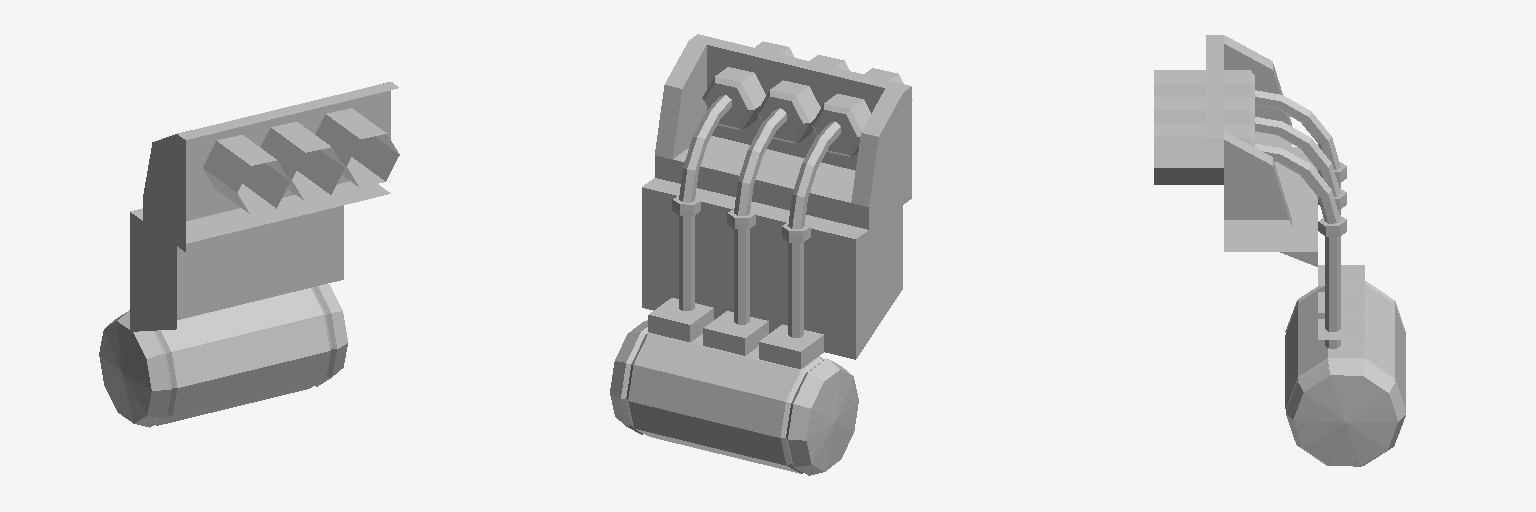
Rendered from JC_ModPanels_EdgeTile_III_B.obj.
The picture shows the model from 3 angles: view 1: azimuth 30°, elevation 25°; view 2: azimuth 150°, elevation 25°; view 3: azimuth 270°, elevation 25°; orthographic projection.
Visible parts, largest first — view 1: JC_ModPanels_EdgeTile_III2; view 2: JC_ModPanels_EdgeTile_III2; view 3: JC_ModPanels_EdgeTile_III2.
Part boxes in pixels (x1,y1,x2,y2): JC_ModPanels_EdgeTile_III2: (99, 82, 399, 427); JC_ModPanels_EdgeTile_III2: (610, 34, 912, 475); JC_ModPanels_EdgeTile_III2: (1154, 35, 1405, 466).
Size of the model in its own units: 200 by 301 by 204.